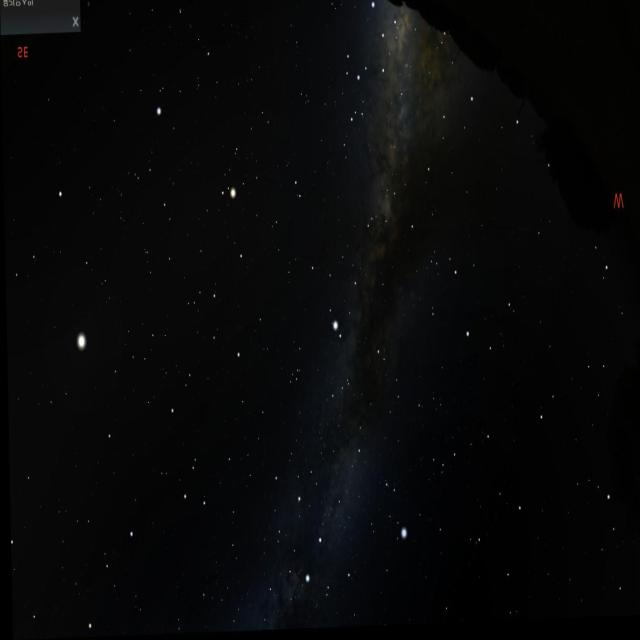aquila: (303, 210, 387, 334)
cygnus: (284, 410, 366, 598)
lyra: (371, 463, 407, 561)
sagittarius: (350, 0, 403, 95)
